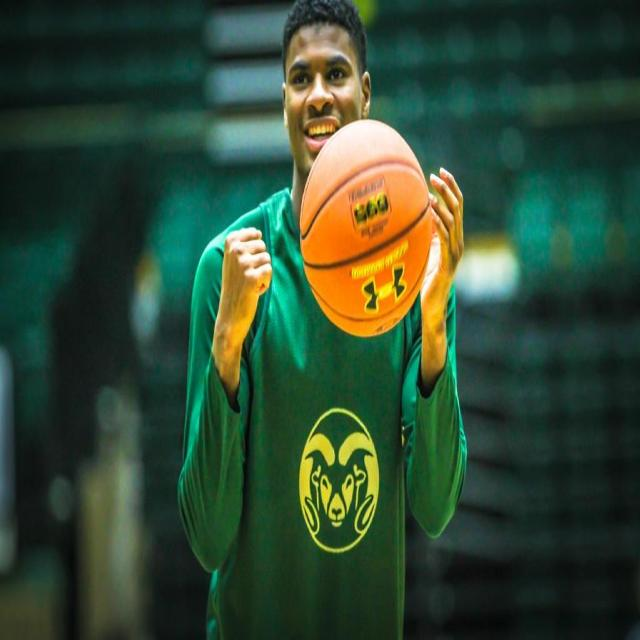Face: (278, 9, 370, 197)
